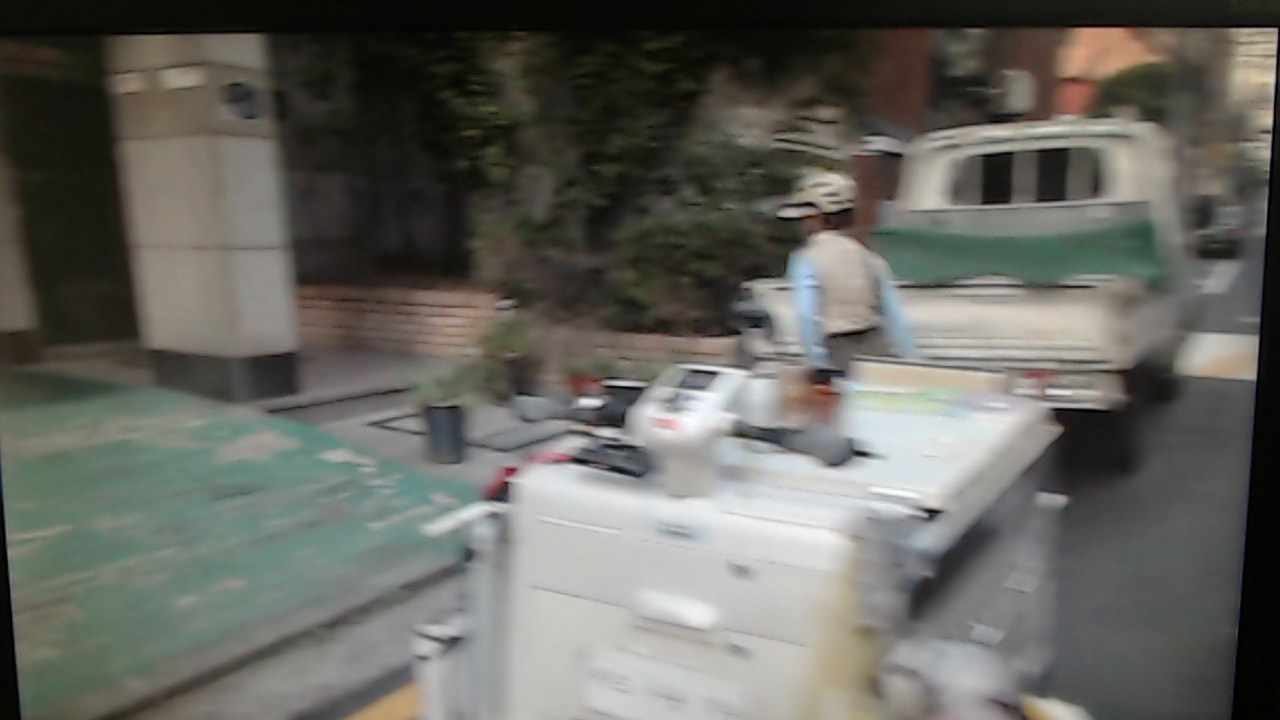Yakurut: (742, 163, 955, 382)
